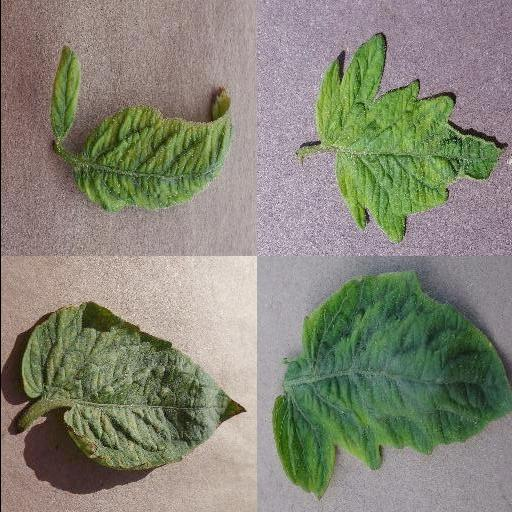Mosaic Virus: (315, 31, 507, 247)
Spider Mites: (17, 302, 247, 470)
Yellow Leaf Curl Virus: (272, 271, 512, 502), (72, 88, 230, 212), (48, 45, 80, 142)
